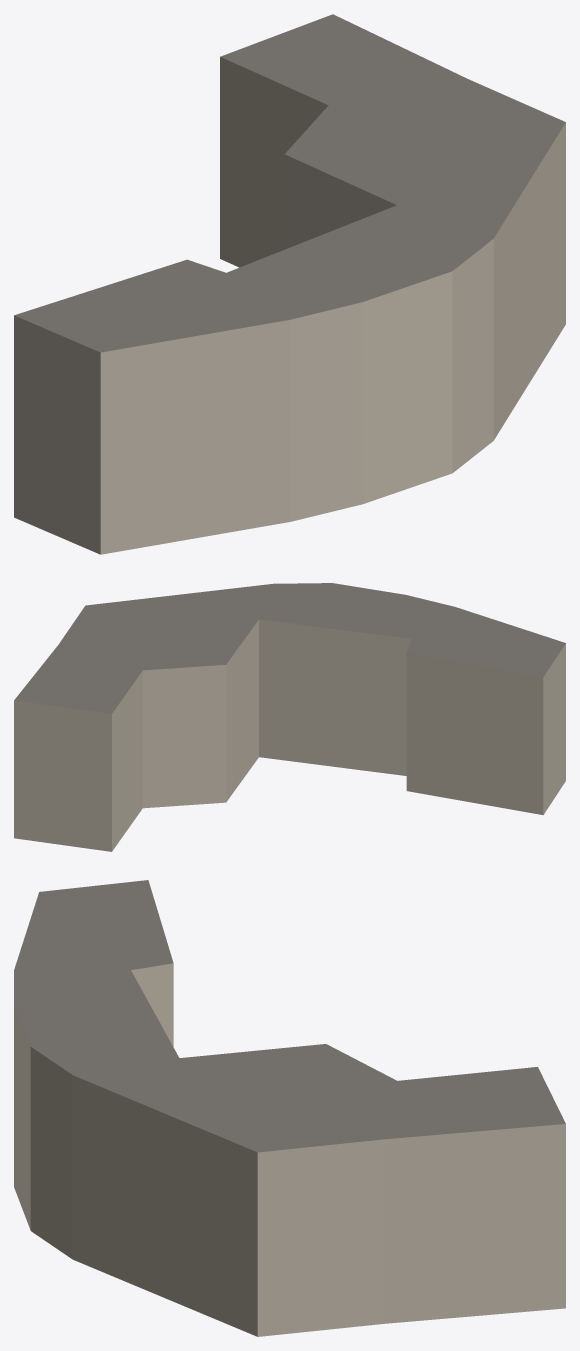
3 views of the same model, one above another, from view 1: azimuth 30°, elevation 25°; view 2: azimuth 150°, elevation 25°; view 3: azimuth 270°, elevation 25° (orthographic). The views are drawn at different scales.
Parts seen in each view (by area): view 1: HP-w288650733; view 2: HP-w288650733; view 3: HP-w288650733.
Part boxes in pixels (x1=…): HP-w288650733: x1=14, y1=14, x2=565, y2=554; HP-w288650733: x1=14, y1=583, x2=565, y2=851; HP-w288650733: x1=14, y1=880, x2=565, y2=1336.
Bounding box in the file's own units: 57.01 × 18 × 48.81.
